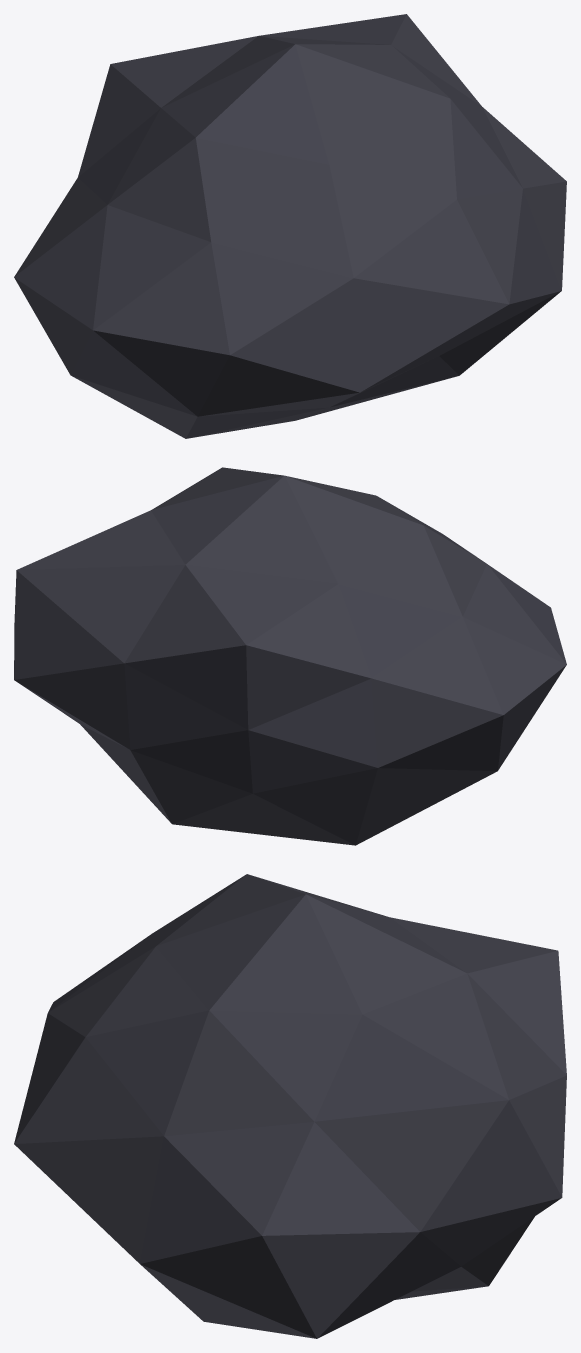
The model's file is deco_pebble_black.obj.
3 views of the same model, one above another, from view 1: azimuth 30°, elevation 25°; view 2: azimuth 150°, elevation 25°; view 3: azimuth 270°, elevation 25° (orthographic). The views are drawn at different scales.
Visible parts, largest first — view 1: deco_pebble_black; view 2: deco_pebble_black; view 3: deco_pebble_black.
Part boxes in pixels (x1=…): deco_pebble_black: x1=14, y1=14, x2=566, y2=438; deco_pebble_black: x1=14, y1=467, x2=566, y2=845; deco_pebble_black: x1=14, y1=874, x2=566, y2=1338.
Bounding box in the file's own units: 0.0492 × 0.0345 × 0.0413.
1 material, 1 textured.
